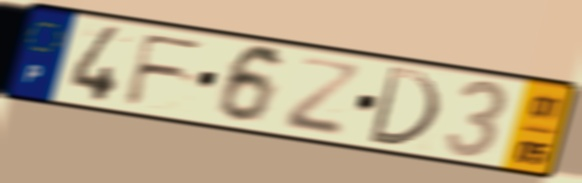3: (443, 78, 513, 160)
4: (66, 23, 124, 105)
6: (211, 42, 290, 130)
D: (363, 63, 443, 151)
F: (121, 31, 209, 109)
Z: (280, 53, 365, 139)
